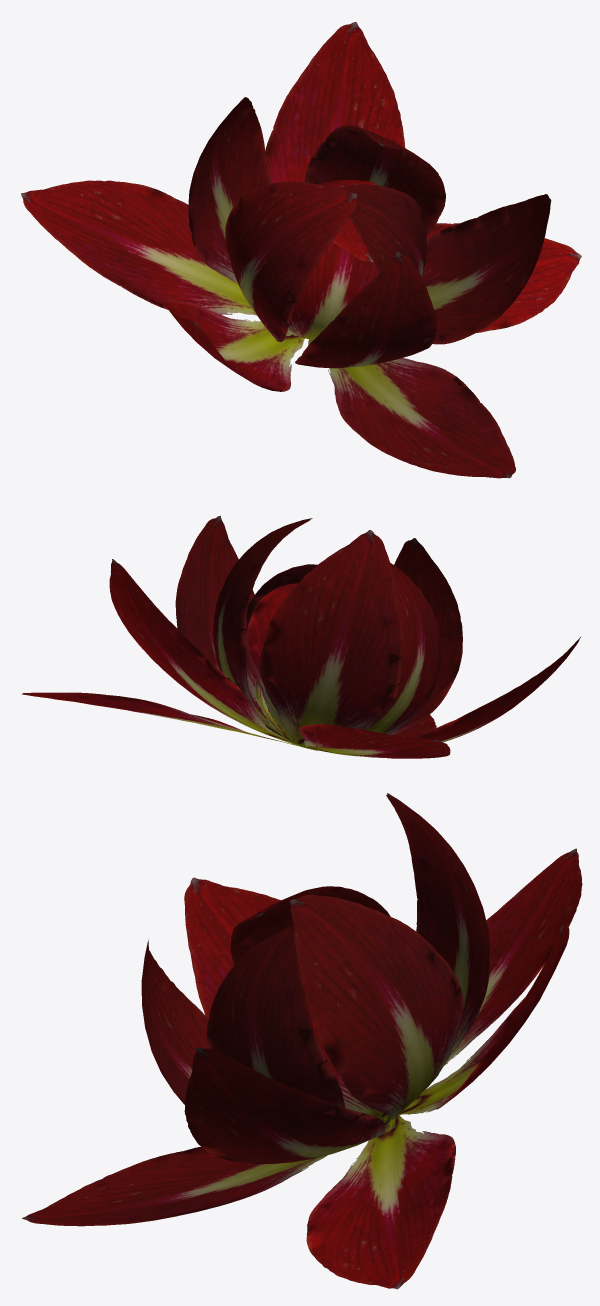
File: amaryllis_freeze.glb
3 renders of one model, top to bottom at view 1: azimuth 30°, elevation 25°; view 2: azimuth 150°, elevation 25°; view 3: azimuth 270°, elevation 25°, orthographic. The views are drawn at different scales.
Parts seen in each view (by area): view 1: amaryllis.001; view 2: amaryllis.001; view 3: amaryllis.001.
Boxes of the visible parts, x1=… form: amaryllis.001: x1=21, y1=22, x2=581, y2=478; amaryllis.001: x1=22, y1=516, x2=580, y2=758; amaryllis.001: x1=22, y1=793, x2=582, y2=1289.
Bounding box in the file's own units: 1.55 × 0.8933 × 1.27.
Materials: 1 (1 with a texture image).
